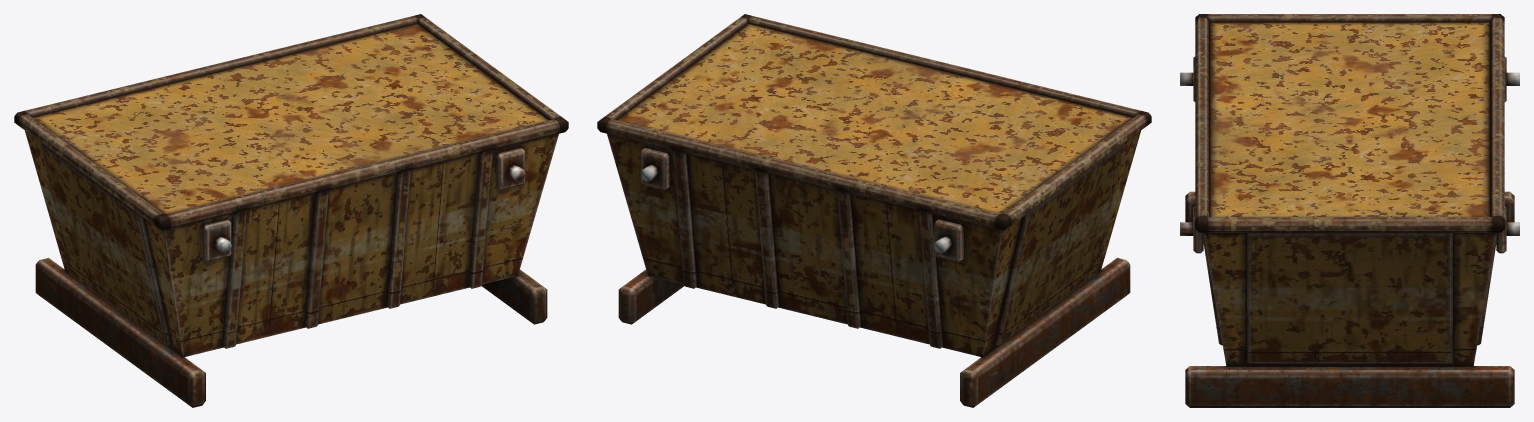
File: cacamba.glb
3 renders of one model, left to right at view 1: azimuth 30°, elevation 25°; view 2: azimuth 150°, elevation 25°; view 3: azimuth 270°, elevation 25°, orthographic. The views are drawn at different scales.
Parts seen in each view (by area): view 1: cacamba; view 2: cacamba; view 3: cacamba.
Part boxes in pixels (box(x1,y1,x2,y2)): cacamba: box(14, 14, 568, 407); cacamba: box(597, 14, 1151, 407); cacamba: box(1180, 14, 1519, 407).
Bounding box in the file's own units: 2.4 × 1.08 × 1.65.
1 material, 1 textured.
